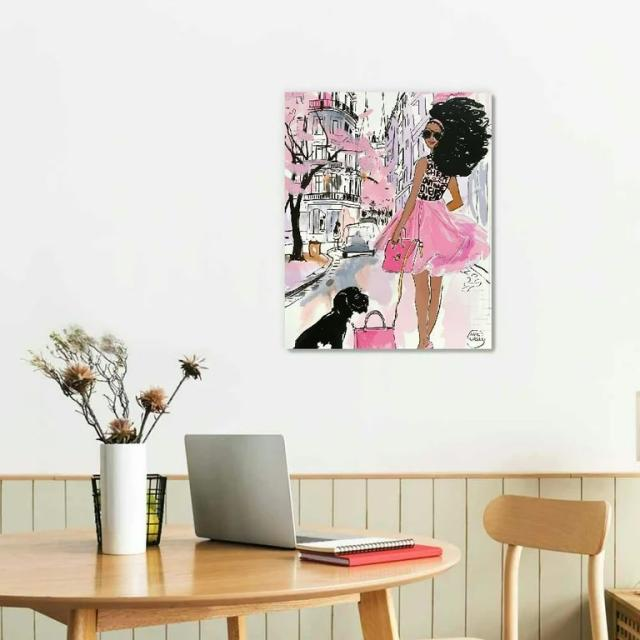painting: (283, 88, 495, 349)
